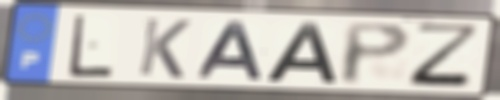A: (261, 20, 340, 84), (195, 20, 267, 82)
K: (135, 15, 194, 81)
L: (66, 13, 116, 79)
P: (339, 21, 414, 88)
Z: (406, 21, 485, 91)
